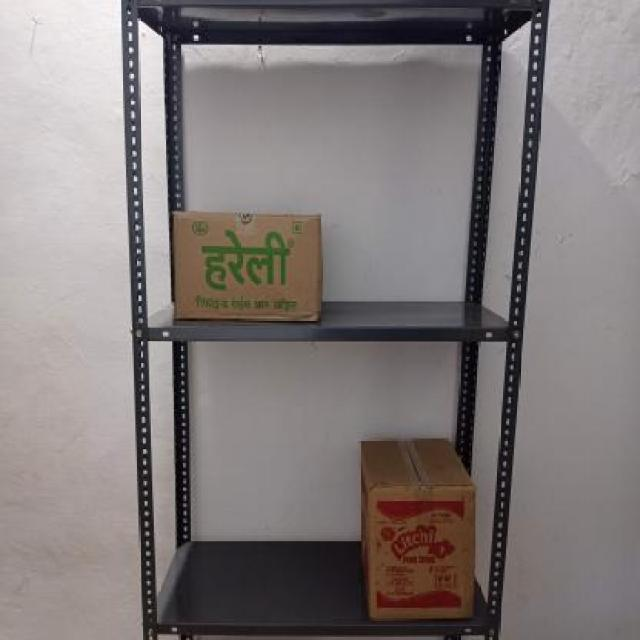box: (173, 210, 322, 318), (370, 486, 478, 623)
